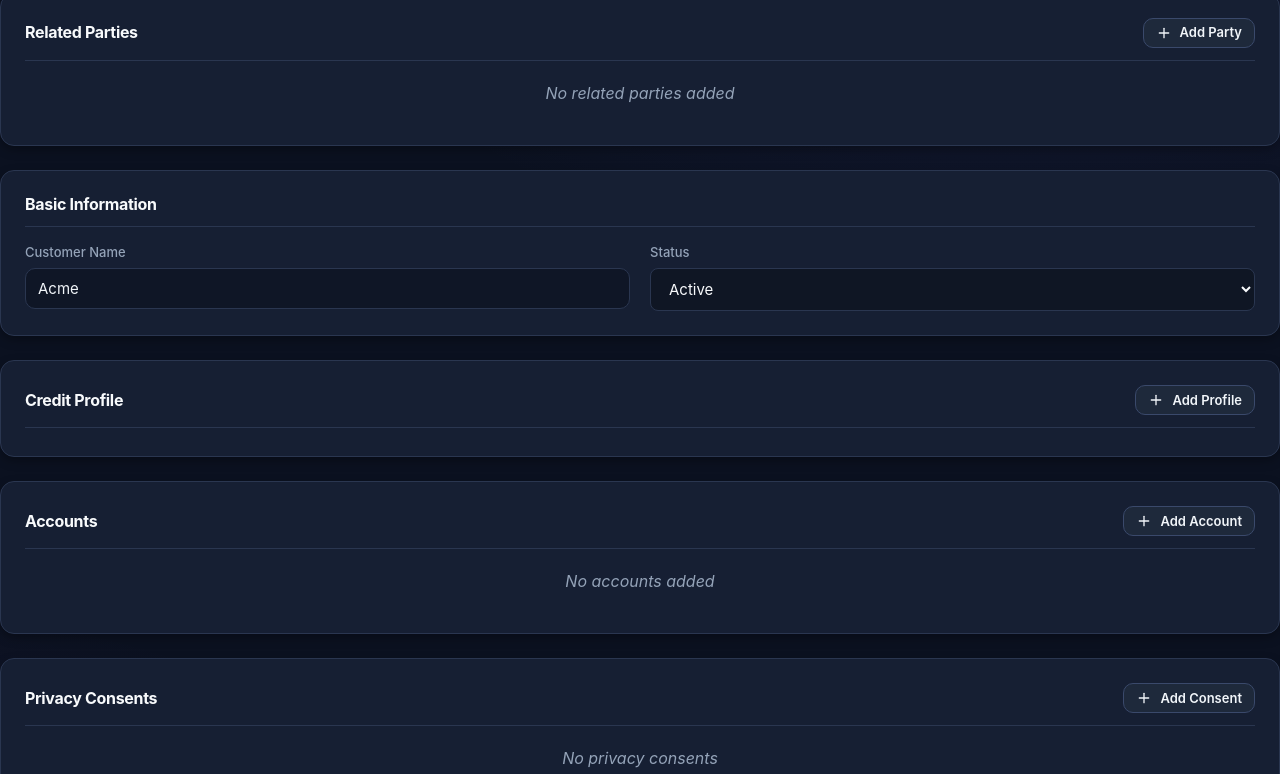
Test: CustomerEditForm › adds, edits and removes a credit profile
(page scrolled)
Click the button "Add Profile".
click(1195, 400)  # box top-left (1135, 385), bottom-right (1255, 415)
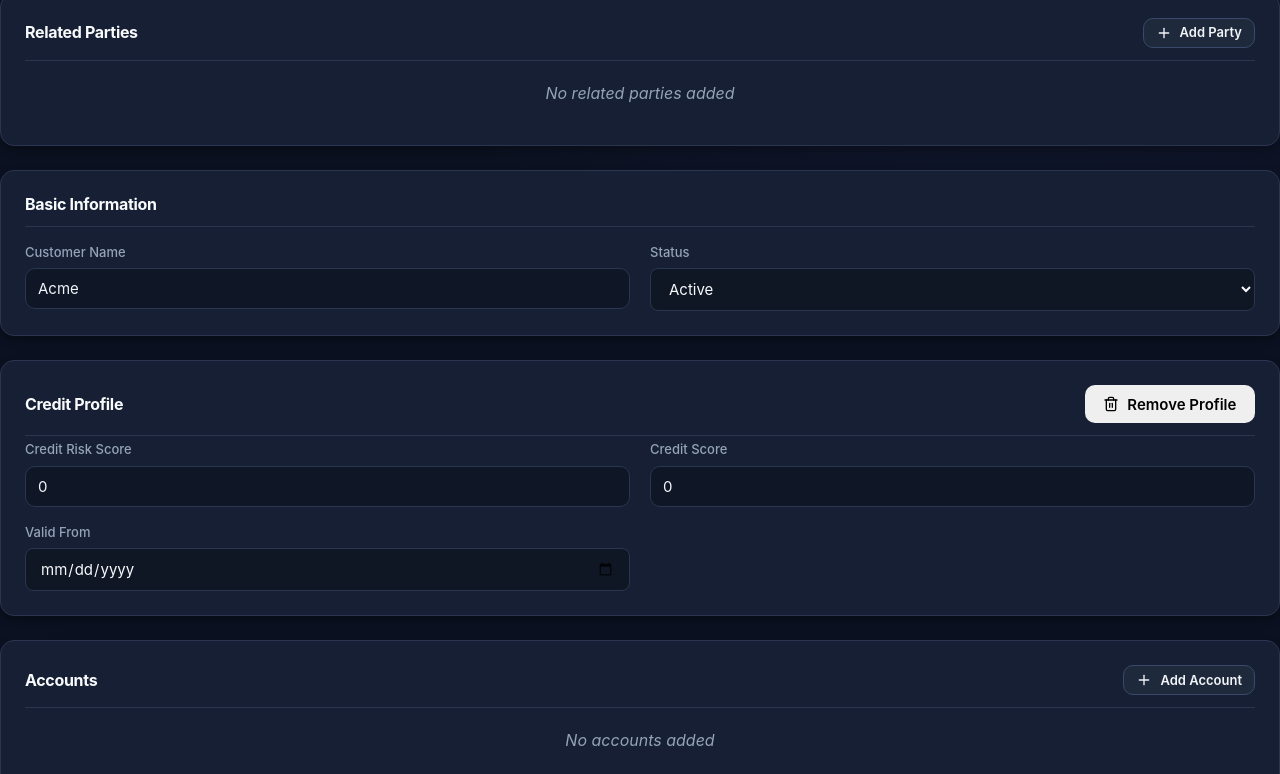
Replace the text in the number field labelled "Credit Risk Score" with "50" at (328,486), box top-left (25, 466), bottom-right (630, 507)
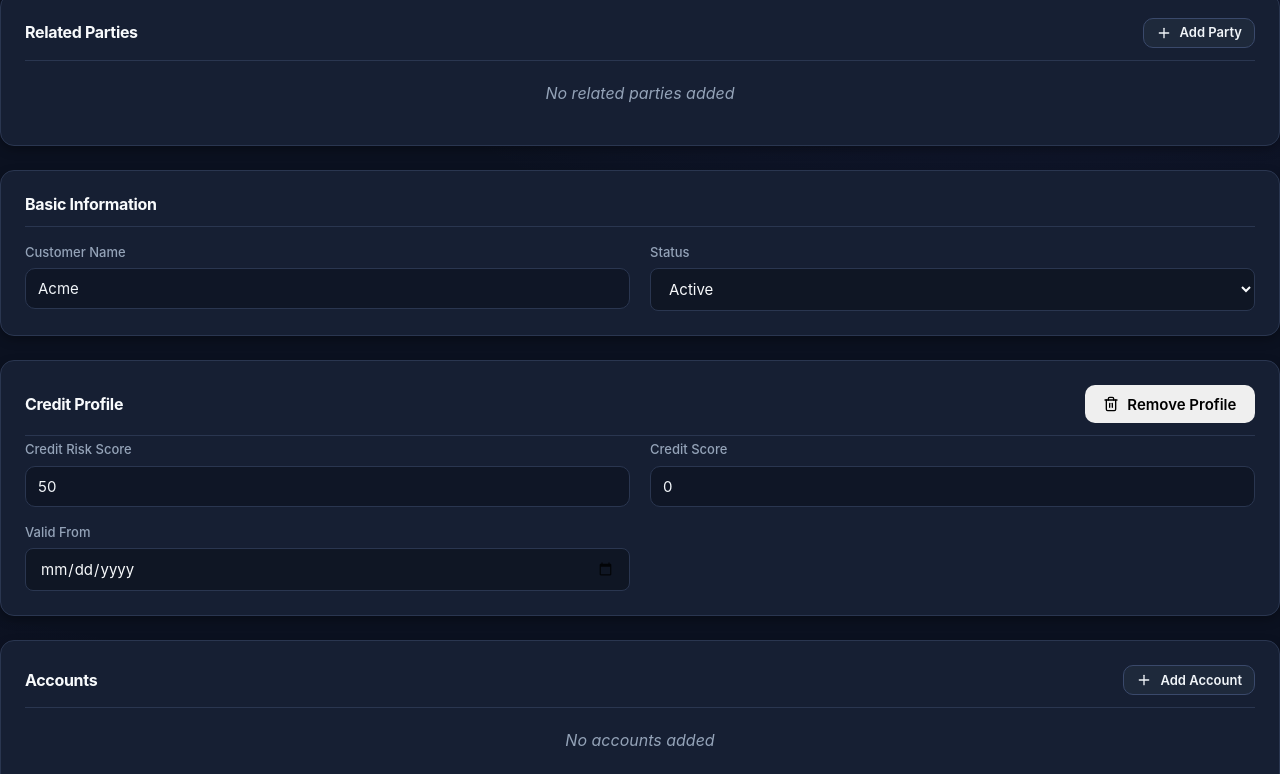
Replace the text in the number field labelled "Credit Score" with "700" at (952,486), box top-left (650, 466), bottom-right (1255, 507)
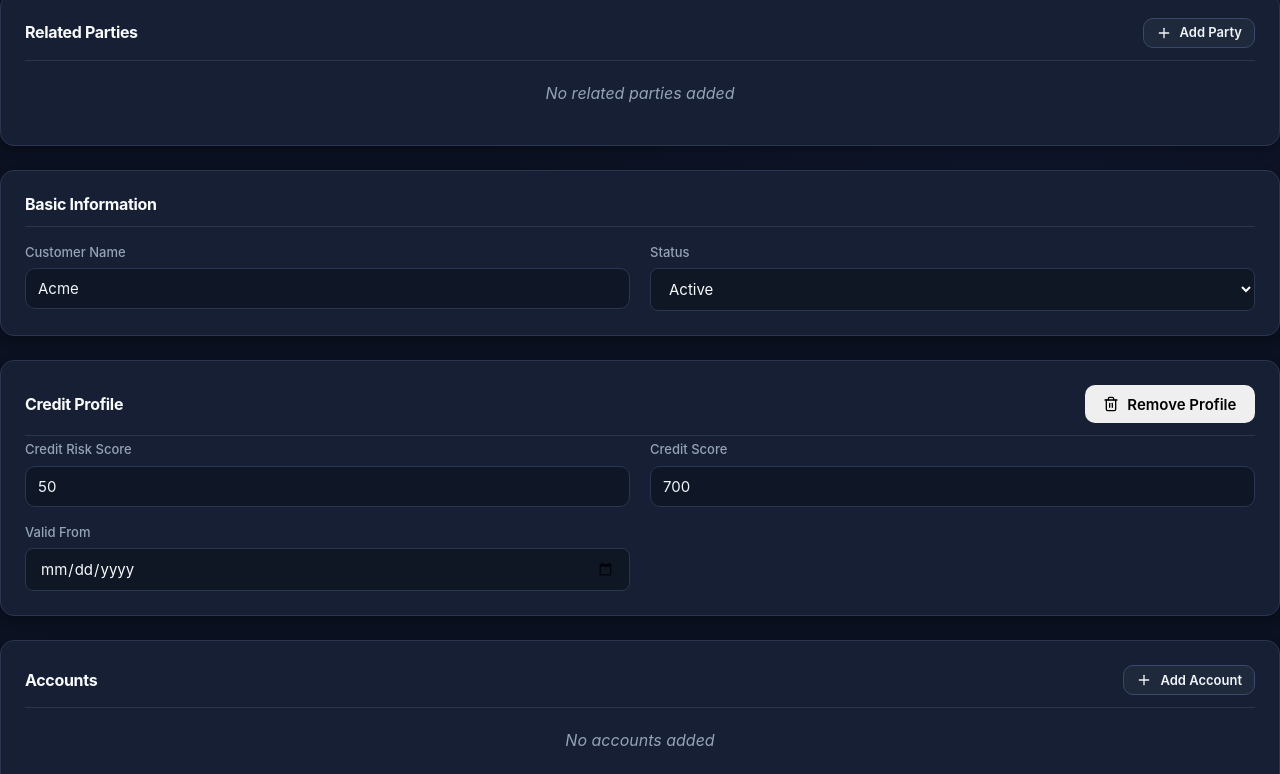
Type "2026-06-14" into the date field labelled "Valid From".
click(328, 570); type("2026-06-14")  # box top-left (25, 548), bottom-right (630, 591)
(page scrolled)
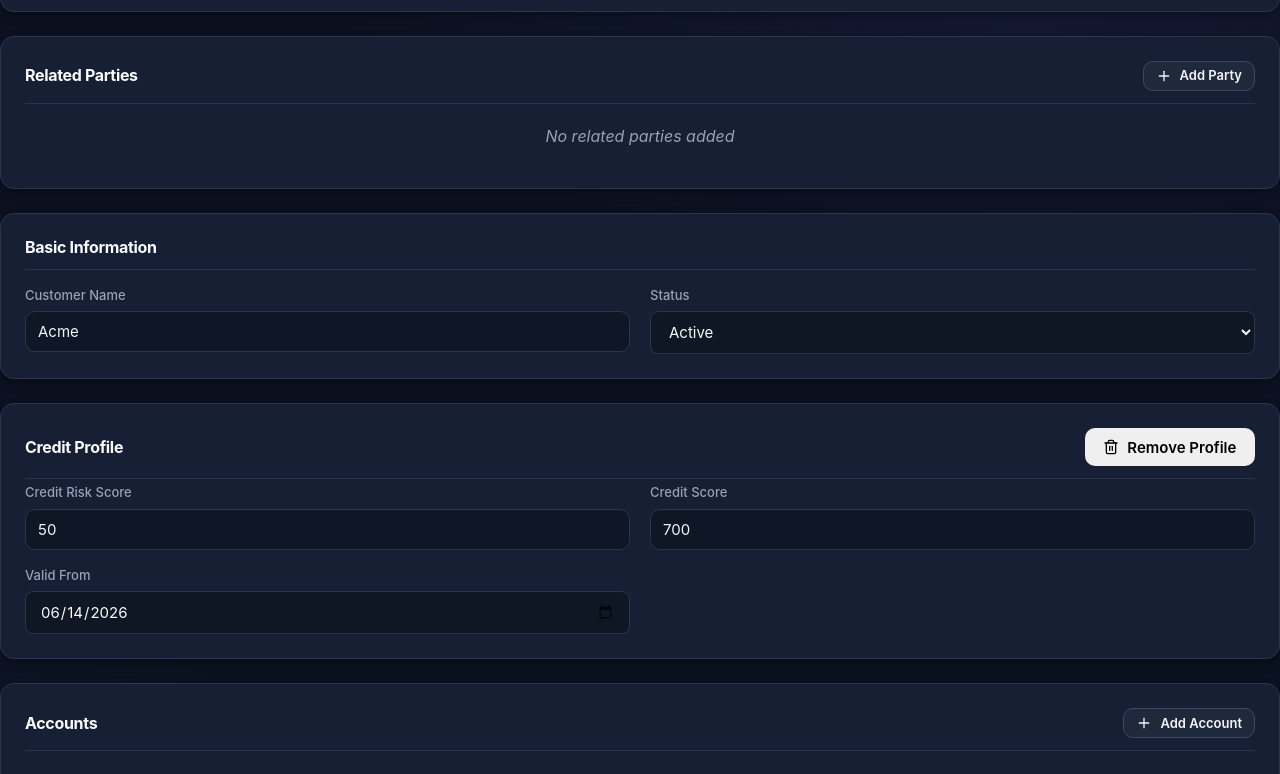
Submit the form with id "edit-form"
Note: Remove the profile again
Click the button "Remove Profile".
click(1170, 447)  # box top-left (1085, 428), bottom-right (1255, 466)
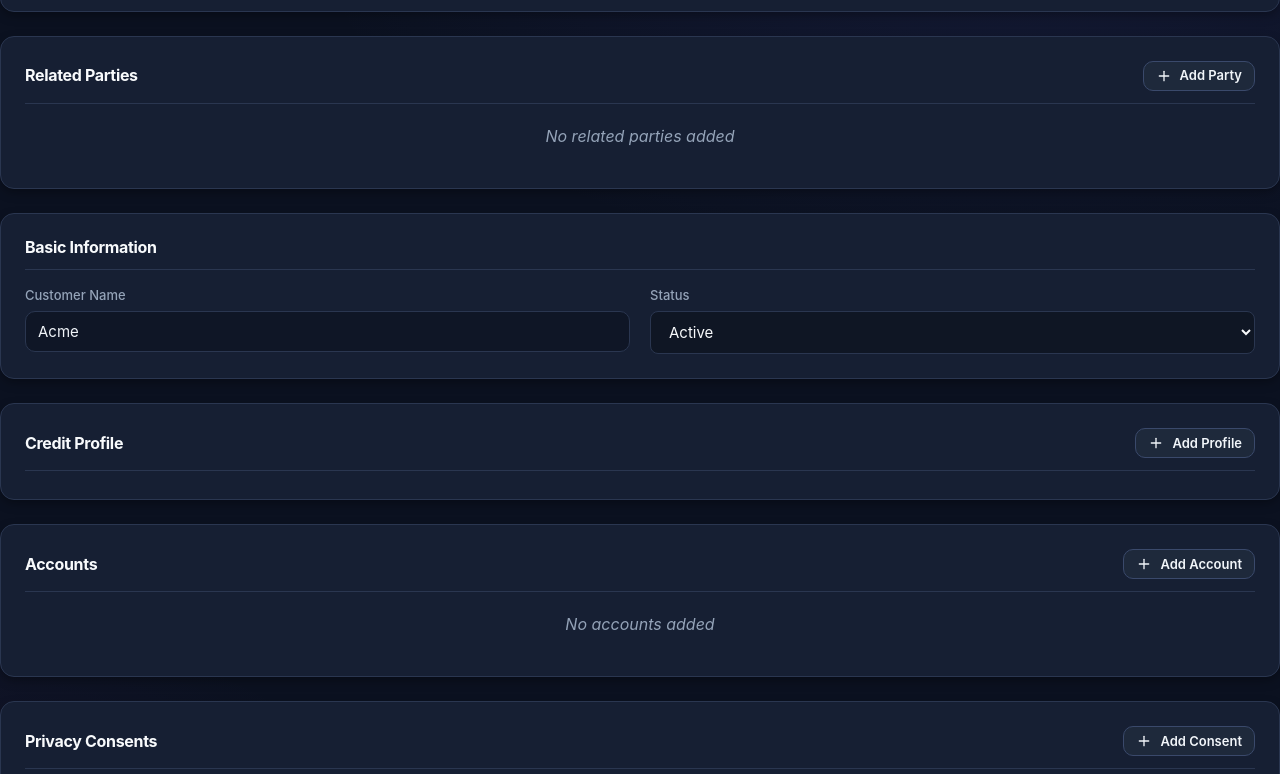
Result: the label labelled "Credit Score" is gone
